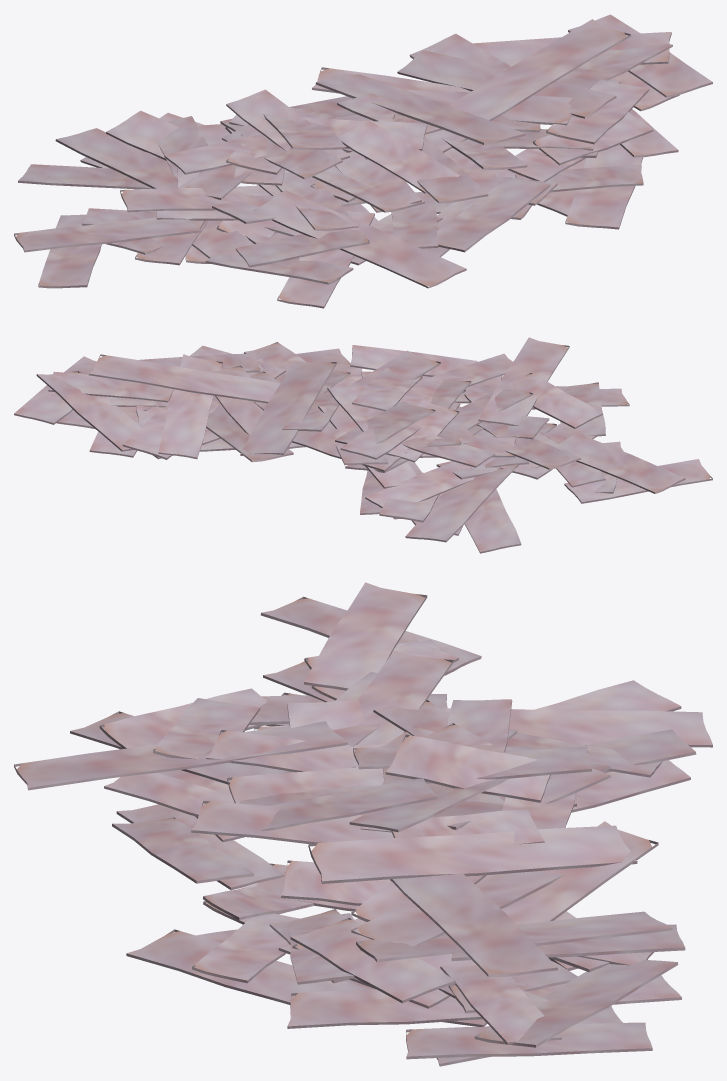
File: SM_PizzaTopping_Ham_Grouped.fbx
The picture shows the model from 3 angles, top to bottom: view 1: azimuth 30°, elevation 25°; view 2: azimuth 150°, elevation 25°; view 3: azimuth 270°, elevation 25°; orthographic projection. The views are drawn at different scales.
Visible parts, largest first — view 1: SM_PizzaTopping_Ham_Grouped; view 2: SM_PizzaTopping_Ham_Grouped; view 3: SM_PizzaTopping_Ham_Grouped.
Part boxes in pixels (x1,y1,x2,y2): SM_PizzaTopping_Ham_Grouped: (14, 14, 712, 308); SM_PizzaTopping_Ham_Grouped: (14, 337, 712, 553); SM_PizzaTopping_Ham_Grouped: (14, 582, 712, 1066).
Size of the model in its own units: 27.21 by 2.38 by 17.25.
